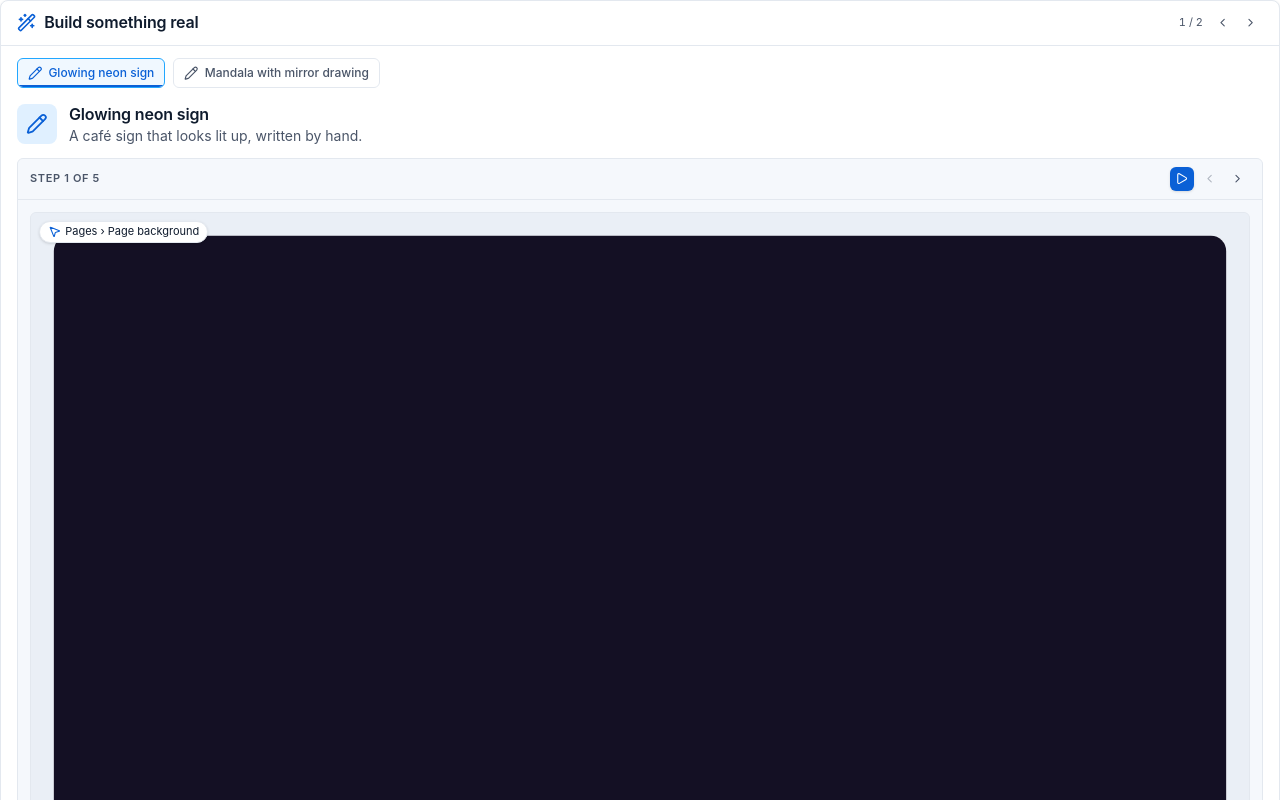
Test: ExampleSlider › plays the steps by itself and stops on the result
Click the button named "Play steps" at (1182, 179), box [1170,167,1194,191]
Wait 4000 ms
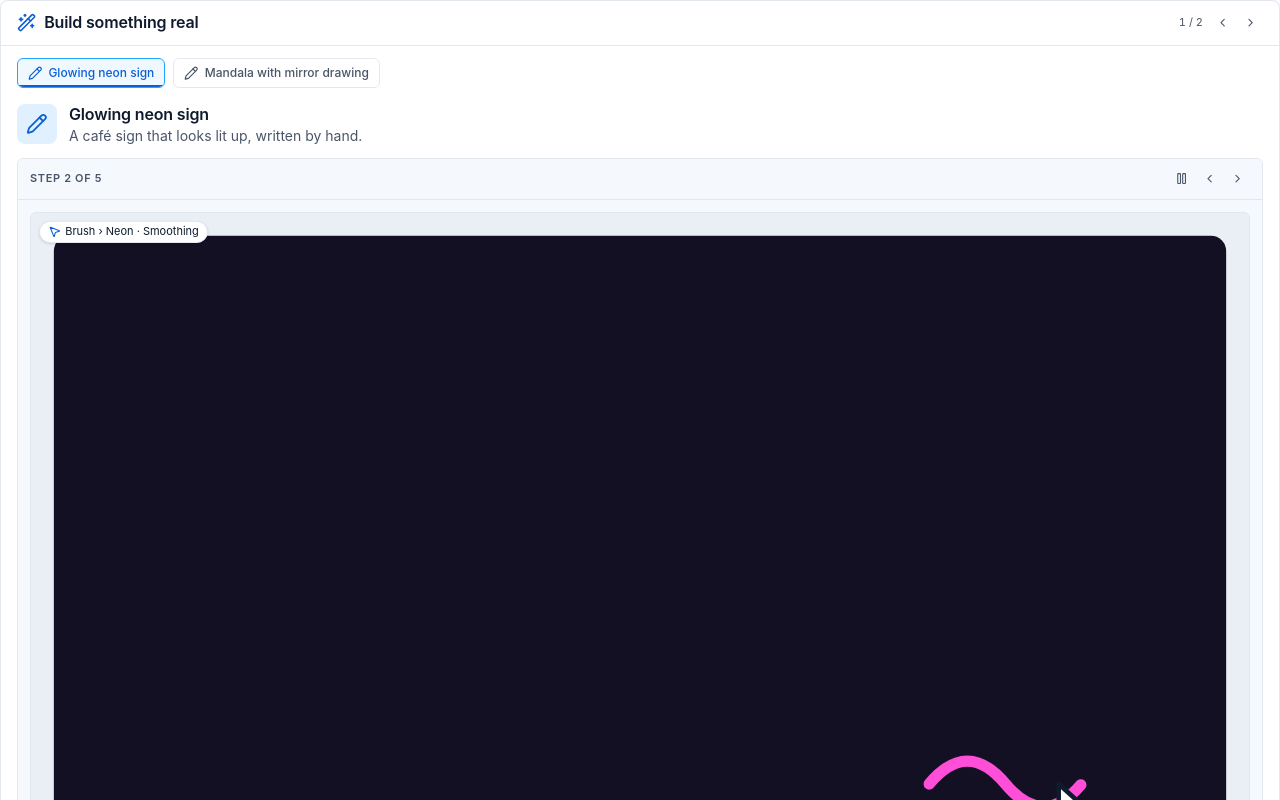
Check: the message reads "Step 2 of 5", box [30,171,102,185]
Click the button named "Pause steps" at (1182, 179), box [1170,167,1194,191]
Wait 12000 ms
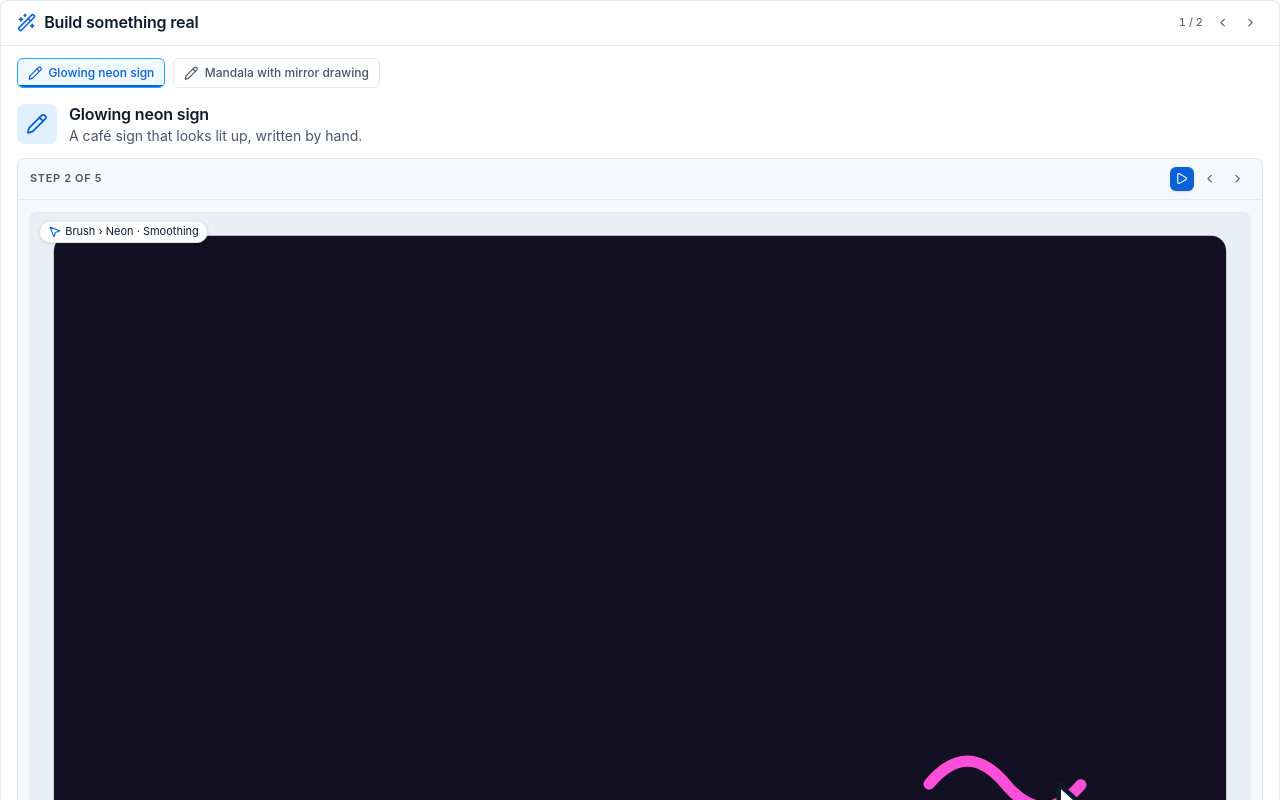
Check: the message reads "Step 2 of 5", box [30,171,102,185]
Click the button named "Play steps" at (1182, 179), box [1170,167,1194,191]
Wait 40000 ms
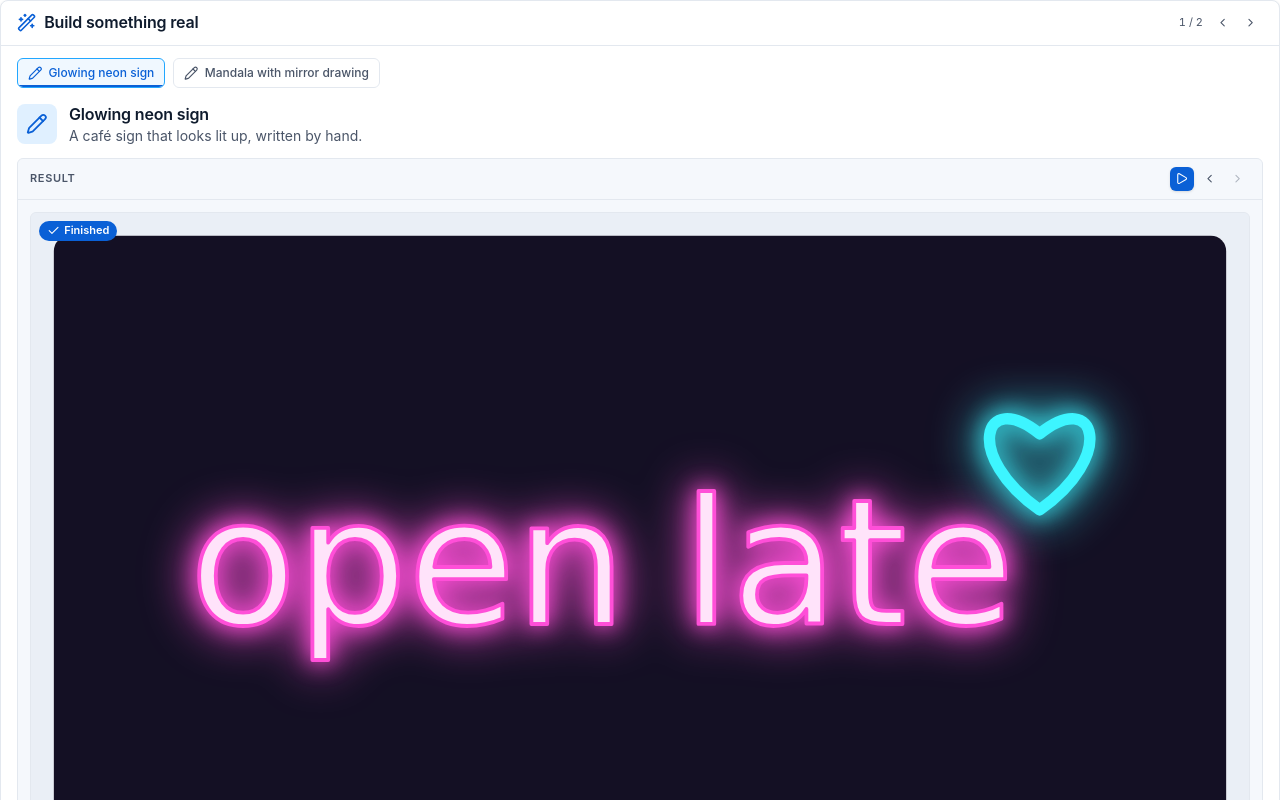
Check: the button named "Play steps" is shown
Check: the message reads "Result", box [30,171,76,185]
# play again from the result starts over
Click the button named "Play steps" at (1182, 179), box [1170,167,1194,191]
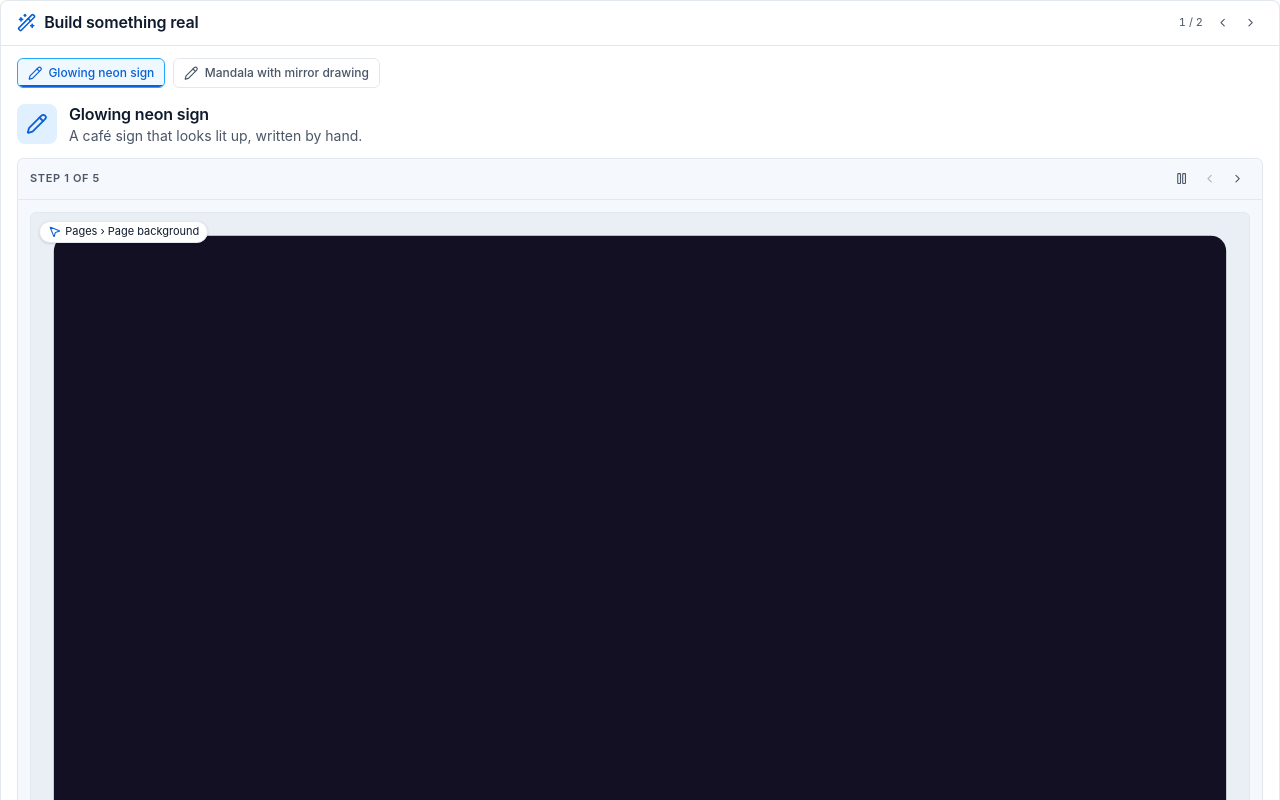
Check: the message reads "Step 1 of 5", box [30,171,100,185]
